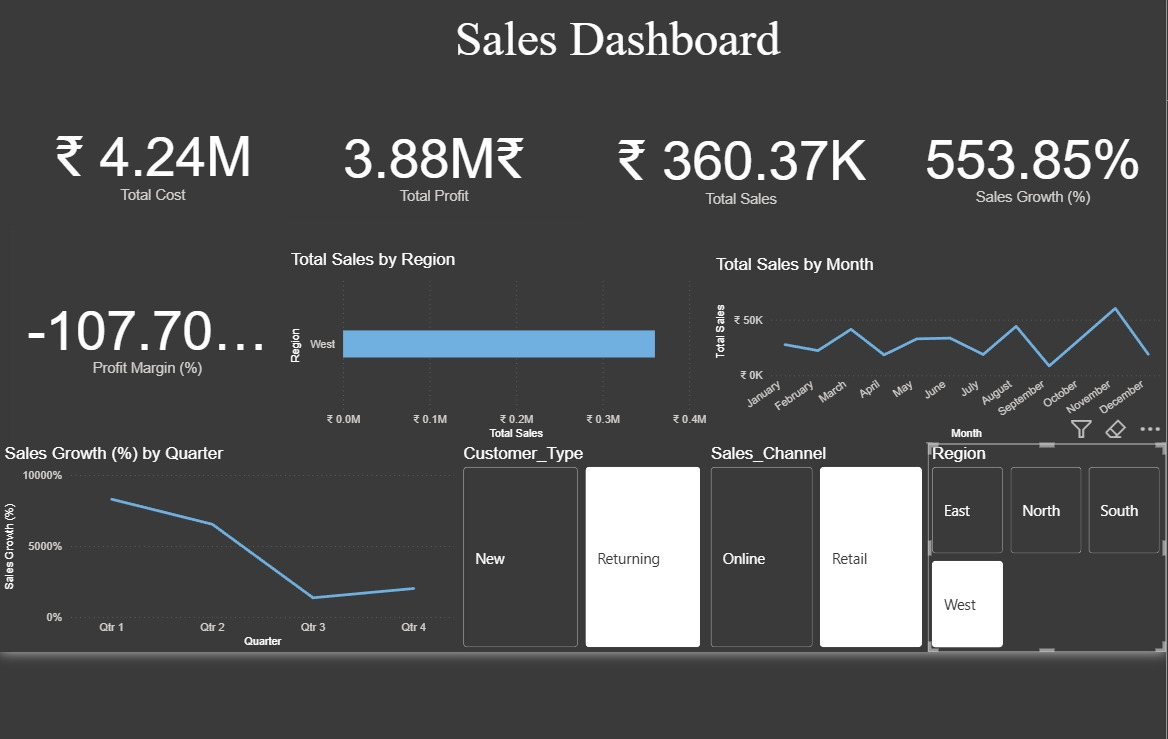

This screenshot's page, from the dashboard's own definition file:
{"tool":"powerbi","page":{"name":"Page 1","canvas":[1280,720],"ordinal":0},"visuals":[{"type":"card","fields":{"Values":["sales_data.Total Cost"]},"box":[22,113.9,292.3,134.5],"z":0},{"type":"card","fields":{"Values":["sales_data.Total Sales"]},"box":[639.5,119.4,348.5,131.7],"z":1000},{"type":"card","fields":{"Values":["sales_data.Profit Margin (%)"]},"box":[9.6,251.1,304.6,240.1],"z":2000},{"type":"card","fields":{"Values":["sales_data.Total Profit"]},"box":[314.2,116.6,325.2,131.7],"z":3000},{"type":"lineChart","fields":{"Category":["sales_data.Sale_Date.Variation.Date Hierarchy.Month","sales_data.Sale_Date.Variation.Date Hierarchy.Day"],"Y":["sales_data.Total Sales"]},"box":[780.8,284,499.5,207.2],"z":4000},{"type":"barChart","fields":{"Y":["sales_data.Total Sales"],"Category":["sales_data.Region"]},"box":[314.2,278.6,466.6,212.7],"z":5000},{"type":"advancedSlicerVisual","fields":{"Values":["sales_data.Region"]},"box":[1018.2,491.3,262.1,229.2],"z":6000},{"type":"advancedSlicerVisual","fields":{"Values":["sales_data.Customer_Type"]},"box":[503.6,491.3,271.7,229.2],"z":7000},{"type":"advancedSlicerVisual","fields":{"Values":["sales_data.Sales_Channel"]},"box":[775.3,491.3,242.9,229.2],"z":8000},{"type":"card","fields":{"Values":["sales_data.Sales Growth (%)"]},"box":[988,116.6,292.3,134.5],"z":9000},{"type":"lineChart","fields":{"Category":["sales_data.Sale_Date.Variation.Date Hierarchy.Quarter","sales_data.Sale_Date.Variation.Date Hierarchy.Month","sales_data.Sale_Date.Variation.Date Hierarchy.Day"],"Y":["sales_data.Sales Growth (%)"]},"box":[0,491.3,503.6,229.2],"z":10000},{"type":"textbox","box":[458.3,12.3,439.1,75.5],"z":10001}]}

Visuals, with their boxes on the page's 1280x720 design canvas (x1, y1, x2, y2). These are canvas units, not pixel positions in the 1168x739 screenshot, which may show the page scaled, cropped or inside an application window:
card - sales_data.Total Cost: Rect(22, 114, 314, 248)
card - sales_data.Total Sales: Rect(640, 119, 988, 251)
card - sales_data.Profit Margin (%): Rect(10, 251, 314, 491)
card - sales_data.Total Profit: Rect(314, 117, 639, 248)
lineChart - sales_data.Sale_Date.Variation.Date Hierarchy.Month x sales_data.Sale_Date.Variation.Date Hierarchy.Day: Rect(781, 284, 1280, 491)
barChart - sales_data.Total Sales x sales_data.Region: Rect(314, 279, 781, 491)
advancedSlicerVisual - sales_data.Region: Rect(1018, 491, 1280, 720)
advancedSlicerVisual - sales_data.Customer_Type: Rect(504, 491, 775, 720)
advancedSlicerVisual - sales_data.Sales_Channel: Rect(775, 491, 1018, 720)
card - sales_data.Sales Growth (%): Rect(988, 117, 1280, 251)
lineChart - sales_data.Sale_Date.Variation.Date Hierarchy.Quarter x sales_data.Sale_Date.Variation.Date Hierarchy.Month: Rect(0, 491, 504, 720)
textbox: Rect(458, 12, 897, 88)
